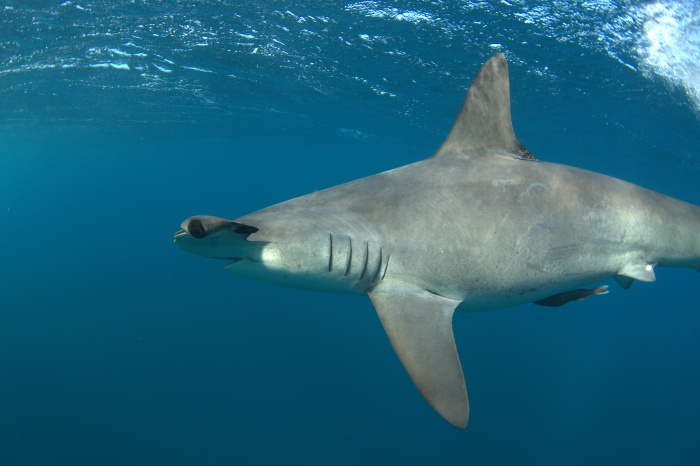Hammer: (145, 45, 700, 443)
